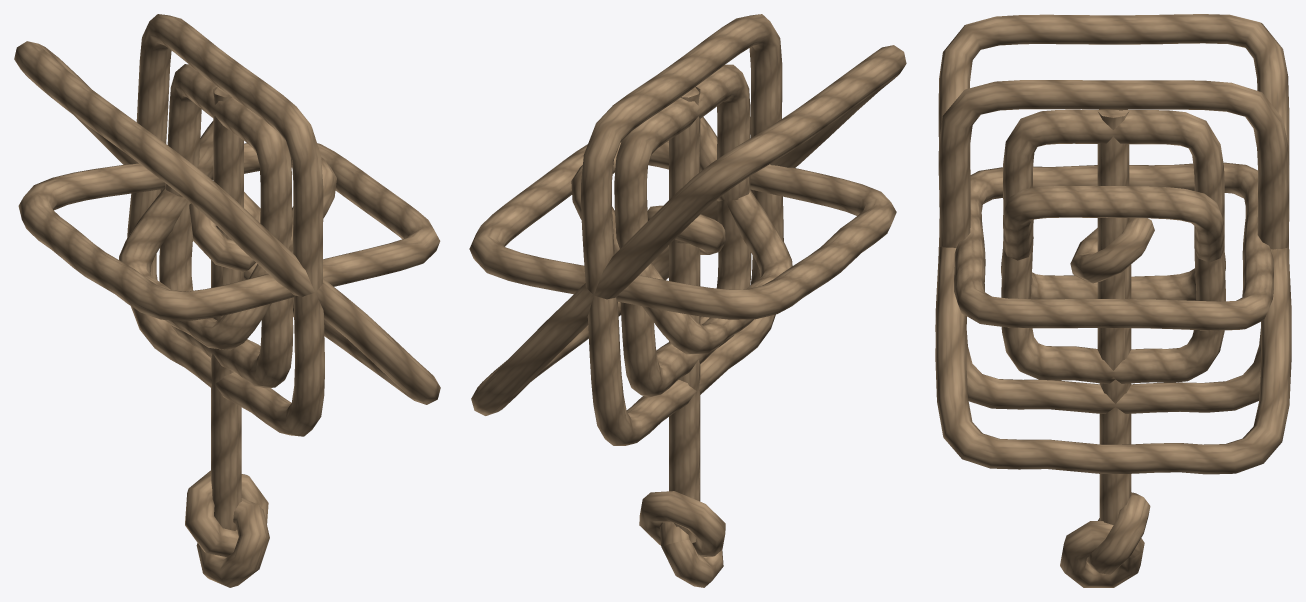
Rendered from ropeSet_1.fbx.
The picture shows the model from 3 angles, left to right: view 1: azimuth 30°, elevation 25°; view 2: azimuth 150°, elevation 25°; view 3: azimuth 270°, elevation 25°; orthographic projection. The views are drawn at different scales.
Parts seen in each view (by area): view 1: ropeLoop_1, ropeLoop_5, ropeLoop_2, ropeLoop_4, ropeKnot_1, ropeLoop_3, ropeLength_1; view 2: ropeLoop_1, ropeLoop_5, ropeLoop_2, ropeLoop_4, ropeKnot_1, ropeLoop_3, ropeLength_1; view 3: ropeLoop_2, ropeLoop_1, ropeLoop_4, ropeLoop_5, ropeLoop_3, ropeKnot_1, ropeLength_1.
Boxes of the visible parts, bbox=[...] form: ropeLoop_1: bbox=[127, 14, 324, 436]; ropeLoop_5: bbox=[18, 143, 440, 321]; ropeLoop_2: bbox=[14, 41, 440, 404]; ropeLoop_4: bbox=[159, 64, 293, 388]; ropeKnot_1: bbox=[185, 192, 269, 587]; ropeLoop_3: bbox=[119, 121, 336, 350]; ropeLength_1: bbox=[213, 86, 243, 316]; ropeLoop_1: bbox=[581, 14, 783, 445]; ropeLoop_5: bbox=[469, 140, 896, 319]; ropeLoop_2: bbox=[471, 45, 906, 415]; ropeLoop_4: bbox=[614, 64, 751, 397]; ropeKnot_1: bbox=[639, 205, 726, 587]; ropeLoop_3: bbox=[571, 117, 792, 354]; ropeLength_1: bbox=[669, 87, 700, 243]; ropeLoop_2: bbox=[935, 14, 1291, 474]; ropeLoop_1: bbox=[935, 80, 1291, 413]; ropeLoop_4: bbox=[1001, 109, 1225, 383]; ropeLoop_5: bbox=[954, 162, 1273, 330]; ropeLoop_3: bbox=[1001, 186, 1225, 300]; ropeKnot_1: bbox=[1060, 218, 1154, 587]; ropeLength_1: bbox=[1097, 109, 1129, 378].
Size of the model in its own units: 44.21 by 71.45 by 45.04.
